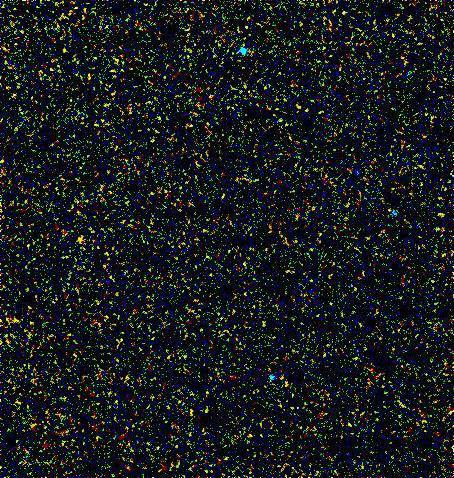star: (57, 224, 87, 254)
